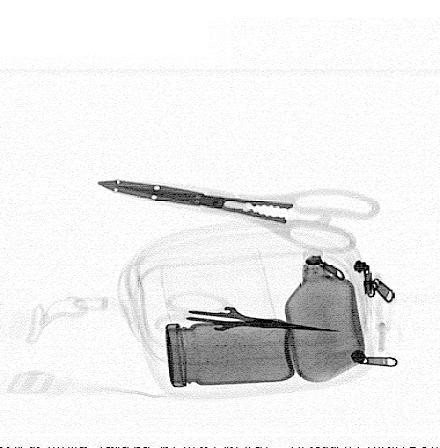Scissors: (96, 179, 381, 253), (152, 291, 350, 332)
